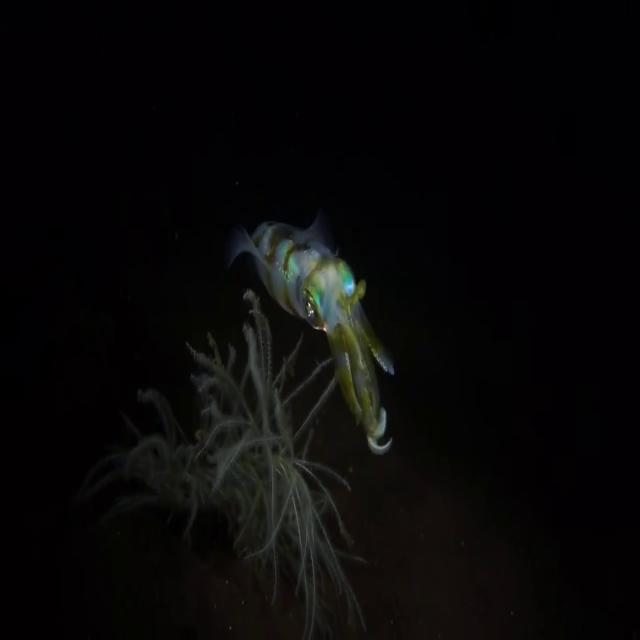squid: (228, 216, 394, 452)
